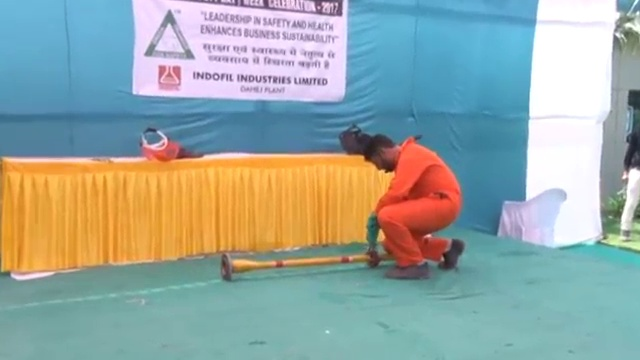helmet_off: (363, 133, 398, 174)
person: (358, 130, 468, 282), (617, 122, 640, 242)
